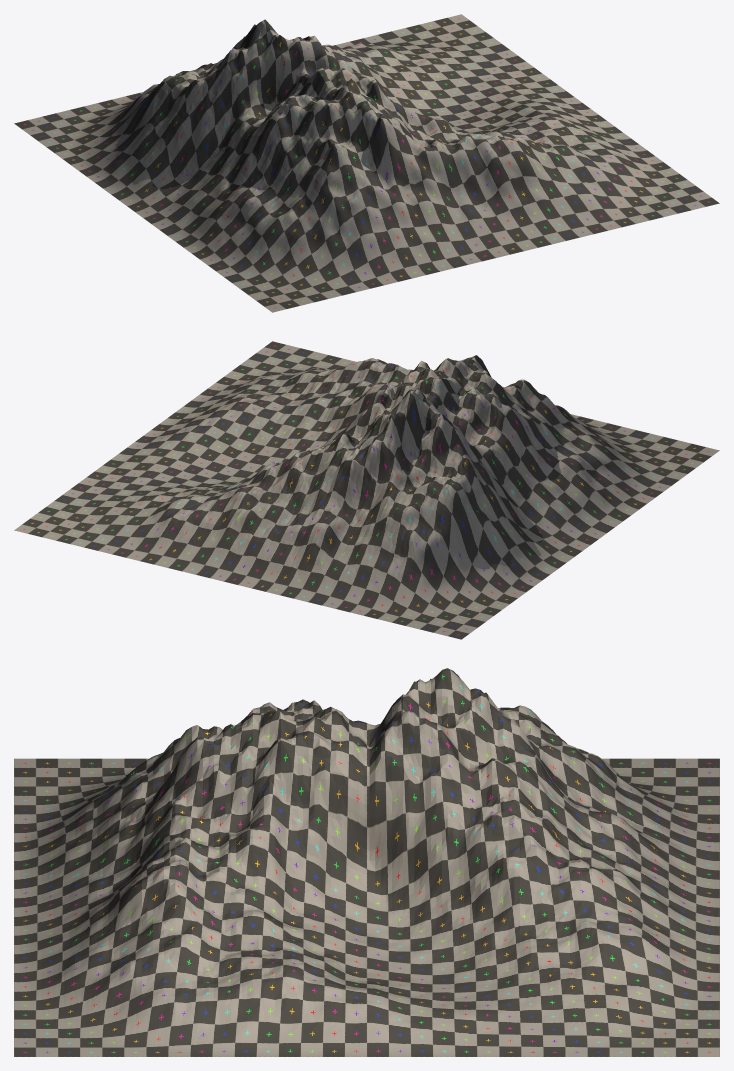
The model's file is mountain.obj.
3 views of the same model, one above another, from view 1: azimuth 30°, elevation 25°; view 2: azimuth 150°, elevation 25°; view 3: azimuth 270°, elevation 25° (orthographic). The views are drawn at different scales.
Visible parts, largest first — view 1: Landscape; view 2: Landscape; view 3: Landscape.
Boxes of the visible parts, x1,y1,x2,y2 form: Landscape: [14, 14, 719, 312]; Landscape: [14, 341, 719, 639]; Landscape: [14, 668, 719, 1056].
Bounding box in the file's own units: 2 × 0.5984 × 2.
